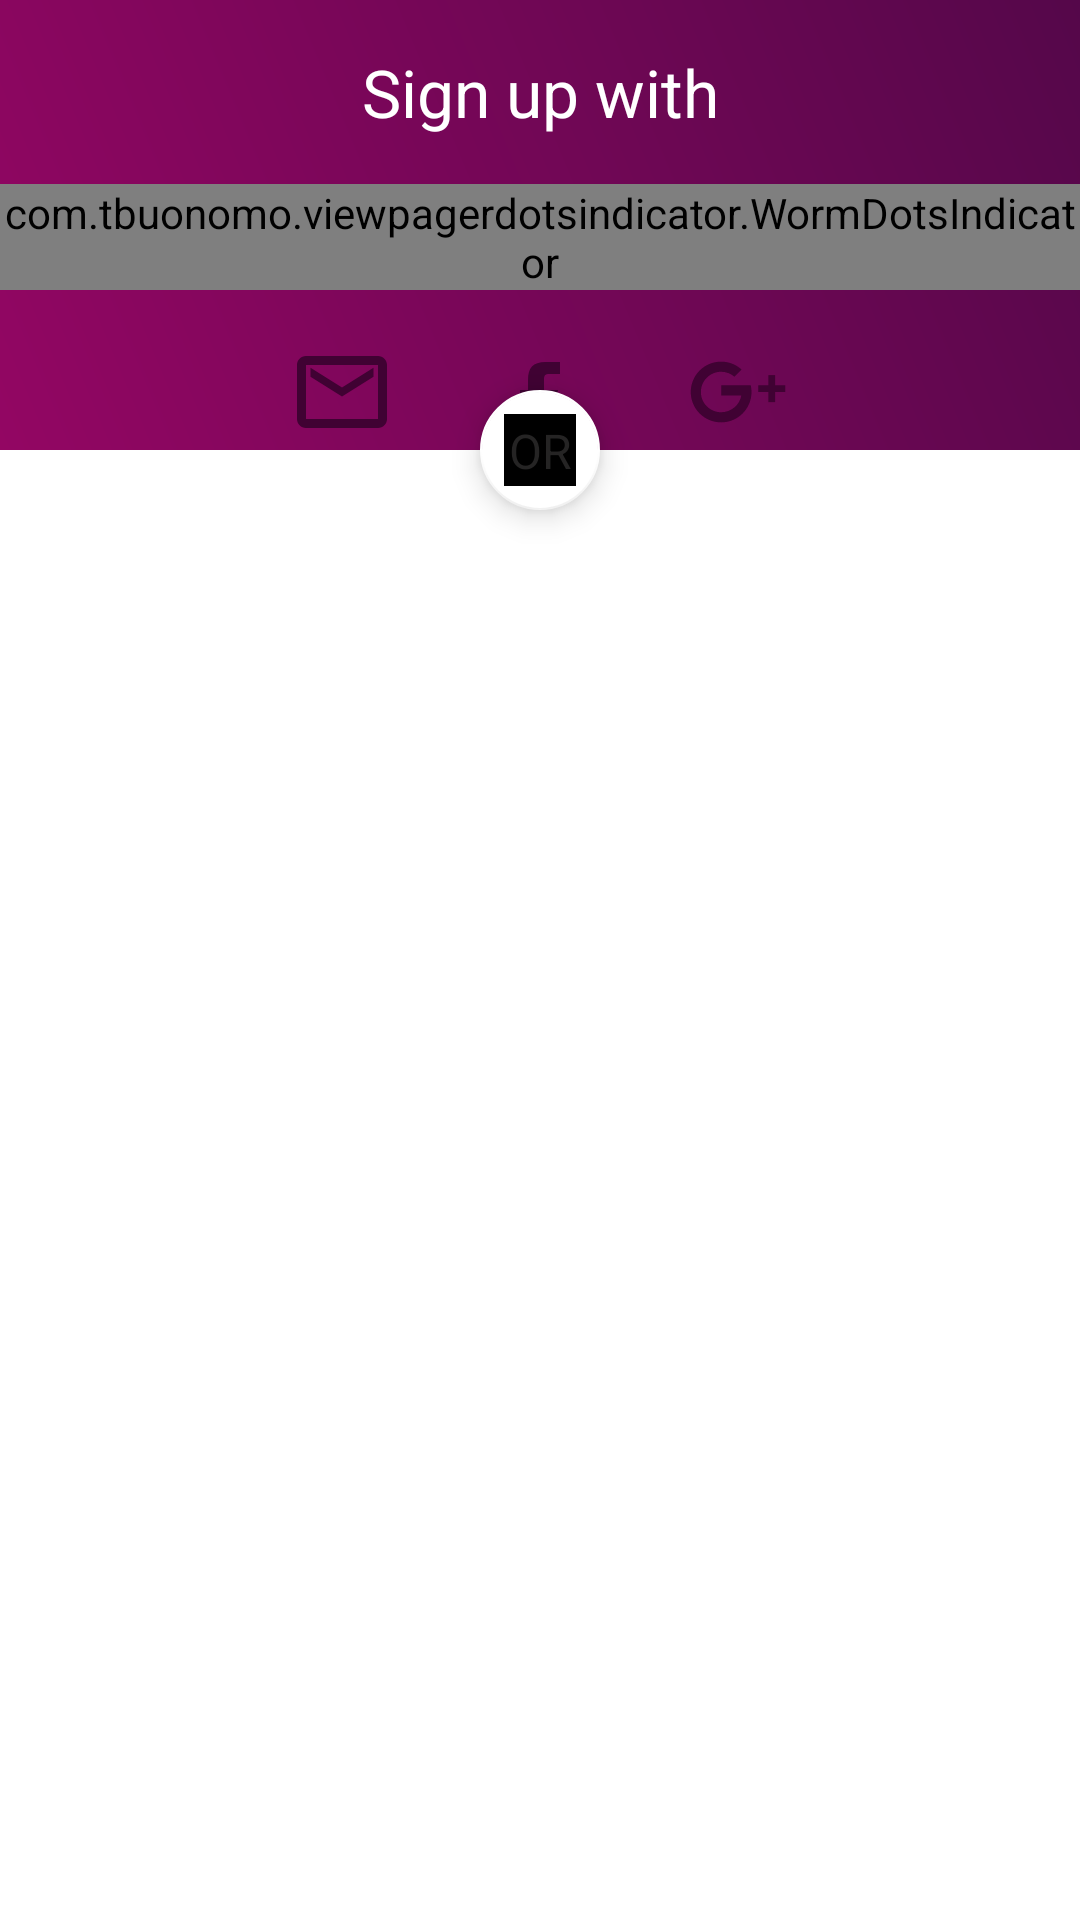

Screen size 1080x1920. Icon name, then its box in pixels as (x1, y1, x2, y2):
message custom: (297, 356, 387, 428)
